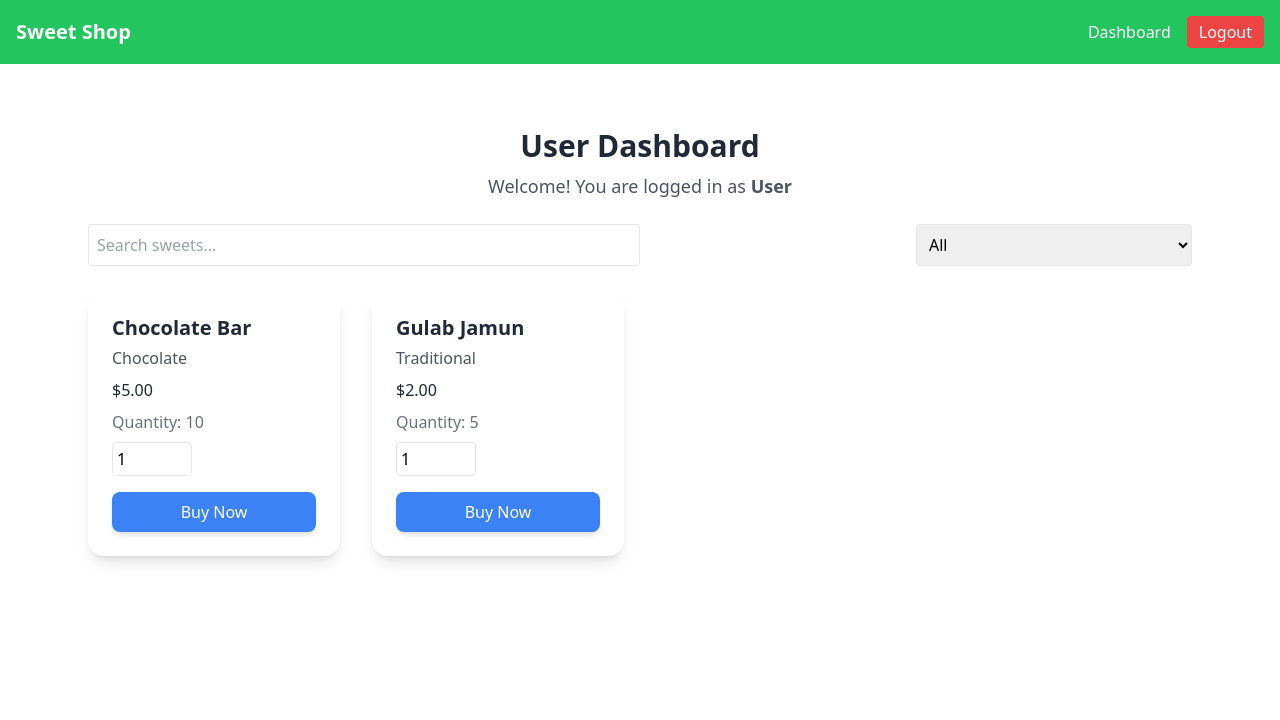
Test: UserDashboard - Search and Filter › filters sweets by search input
This screenshot has width=1280, height=720.
Expected: the heading "Chocolate Bar" is shown, [112,314,251,341]
In the field with placeholder "Search sweets...": (364, 245) [88,224,640,266], type "Gulab"
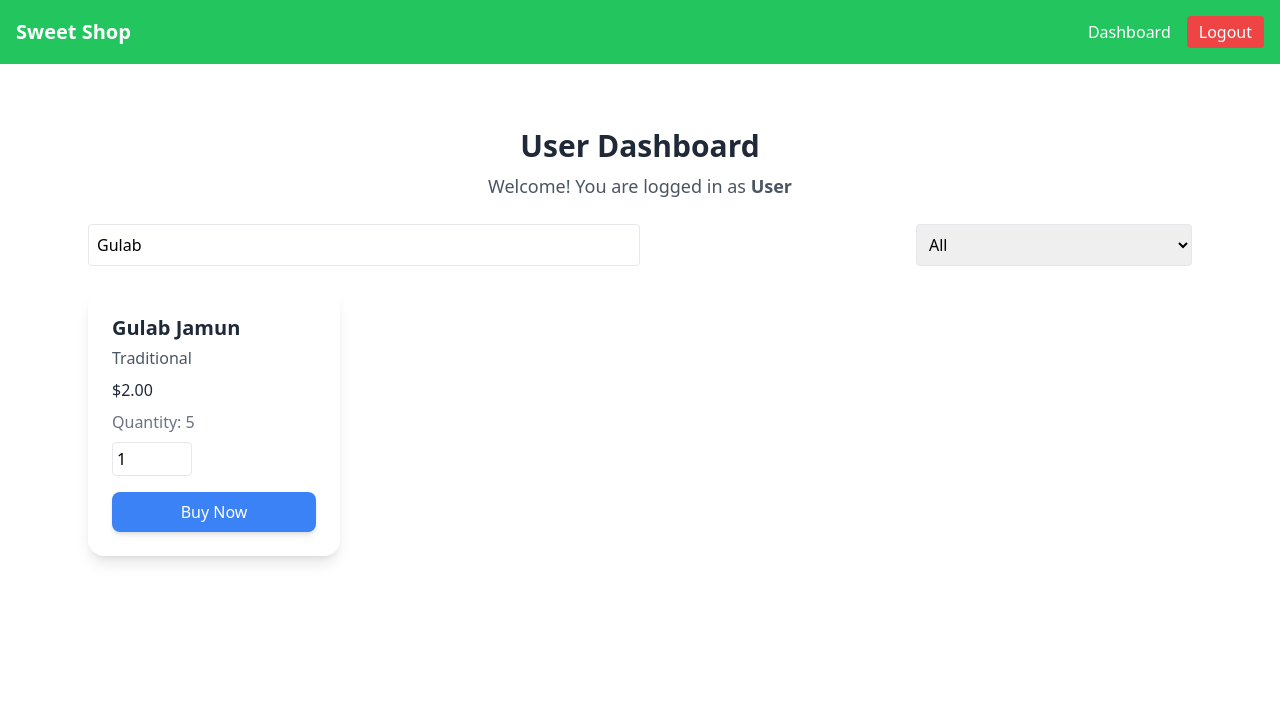
Expected: the heading "Gulab Jamun" is shown, [112,314,240,341]
Now the heading "Chocolate Bar" is gone
